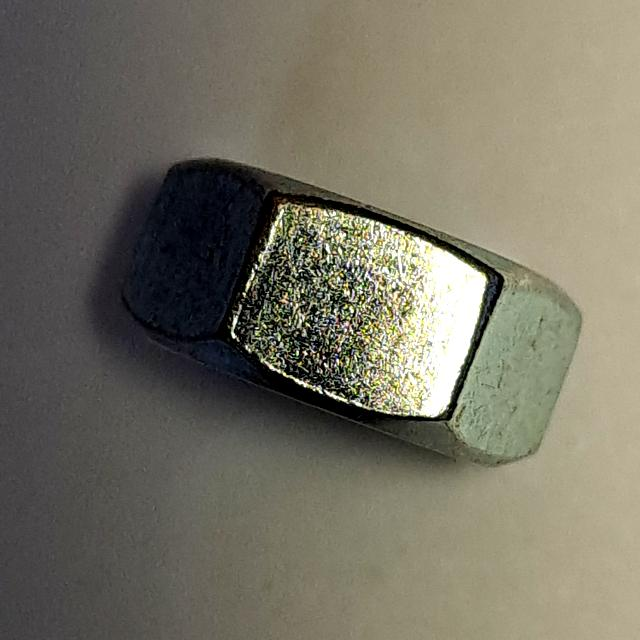Side_Excellent: (113, 145, 597, 486)
